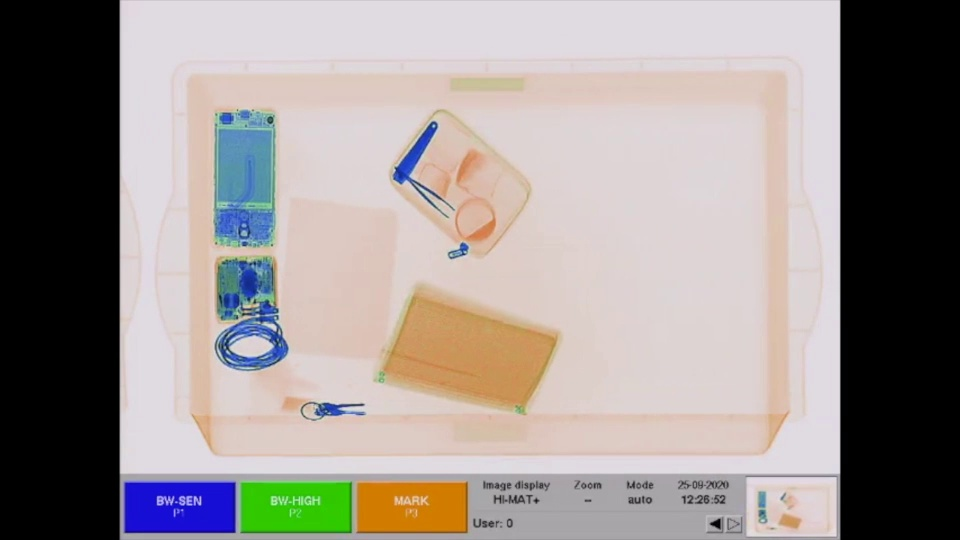tray_img: (149, 50, 828, 461)
